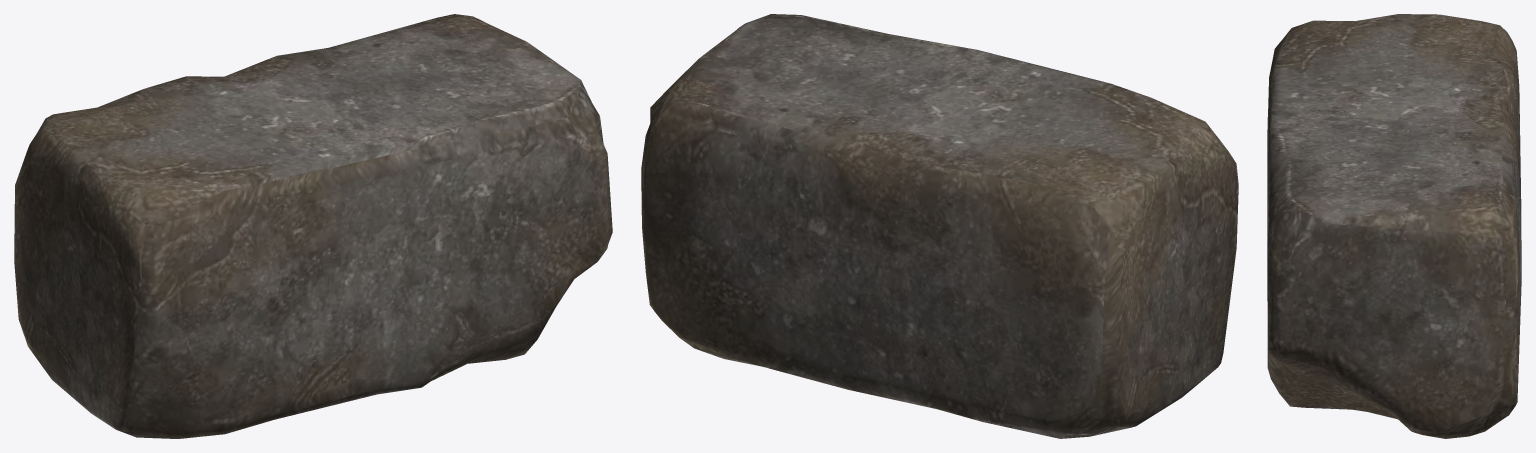
Rendered from O_mdl_env_propSculptStoneBlockA_c-transformed.glb.
3 views of the same model, side by side, from view 1: azimuth 30°, elevation 25°; view 2: azimuth 150°, elevation 25°; view 3: azimuth 270°, elevation 25° (orthographic). The views are drawn at different scales.
Visible parts, largest first — view 1: default; view 2: default; view 3: default.
Part boxes in pixels (x1,y1,x2,y2): default: (14, 14, 612, 438); default: (641, 14, 1238, 438); default: (1267, 14, 1521, 438).
Bounding box in the file's own units: 3.99 × 2 × 2.03.
Materials: 1 (1 with a texture image).
